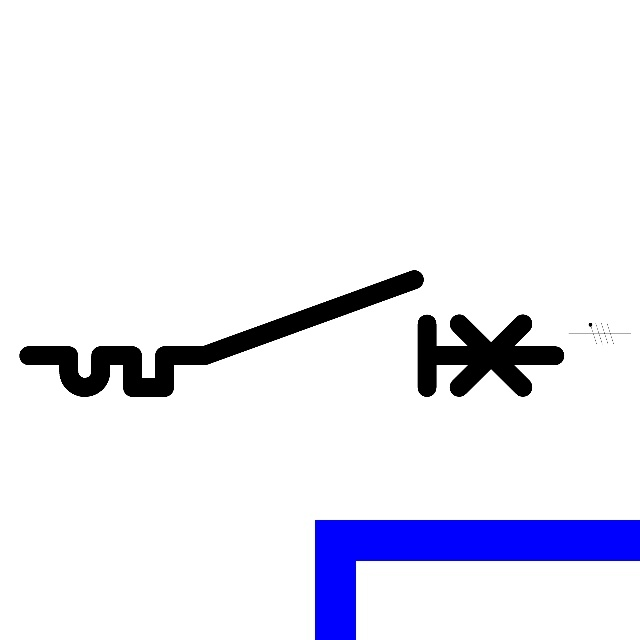interruptor_termomagnetico: (15, 266, 568, 401)
